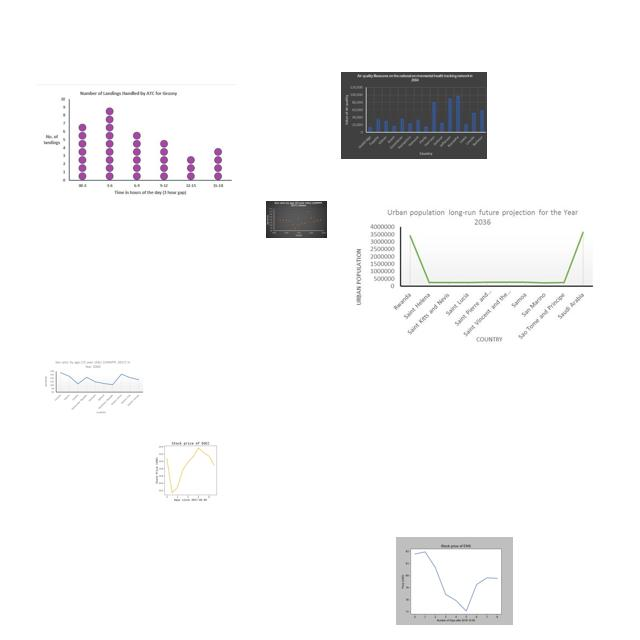Graph: (351, 206, 597, 344), (37, 84, 236, 201), (341, 72, 487, 159), (396, 537, 513, 625), (44, 358, 145, 416), (147, 438, 232, 502), (266, 201, 327, 238)
